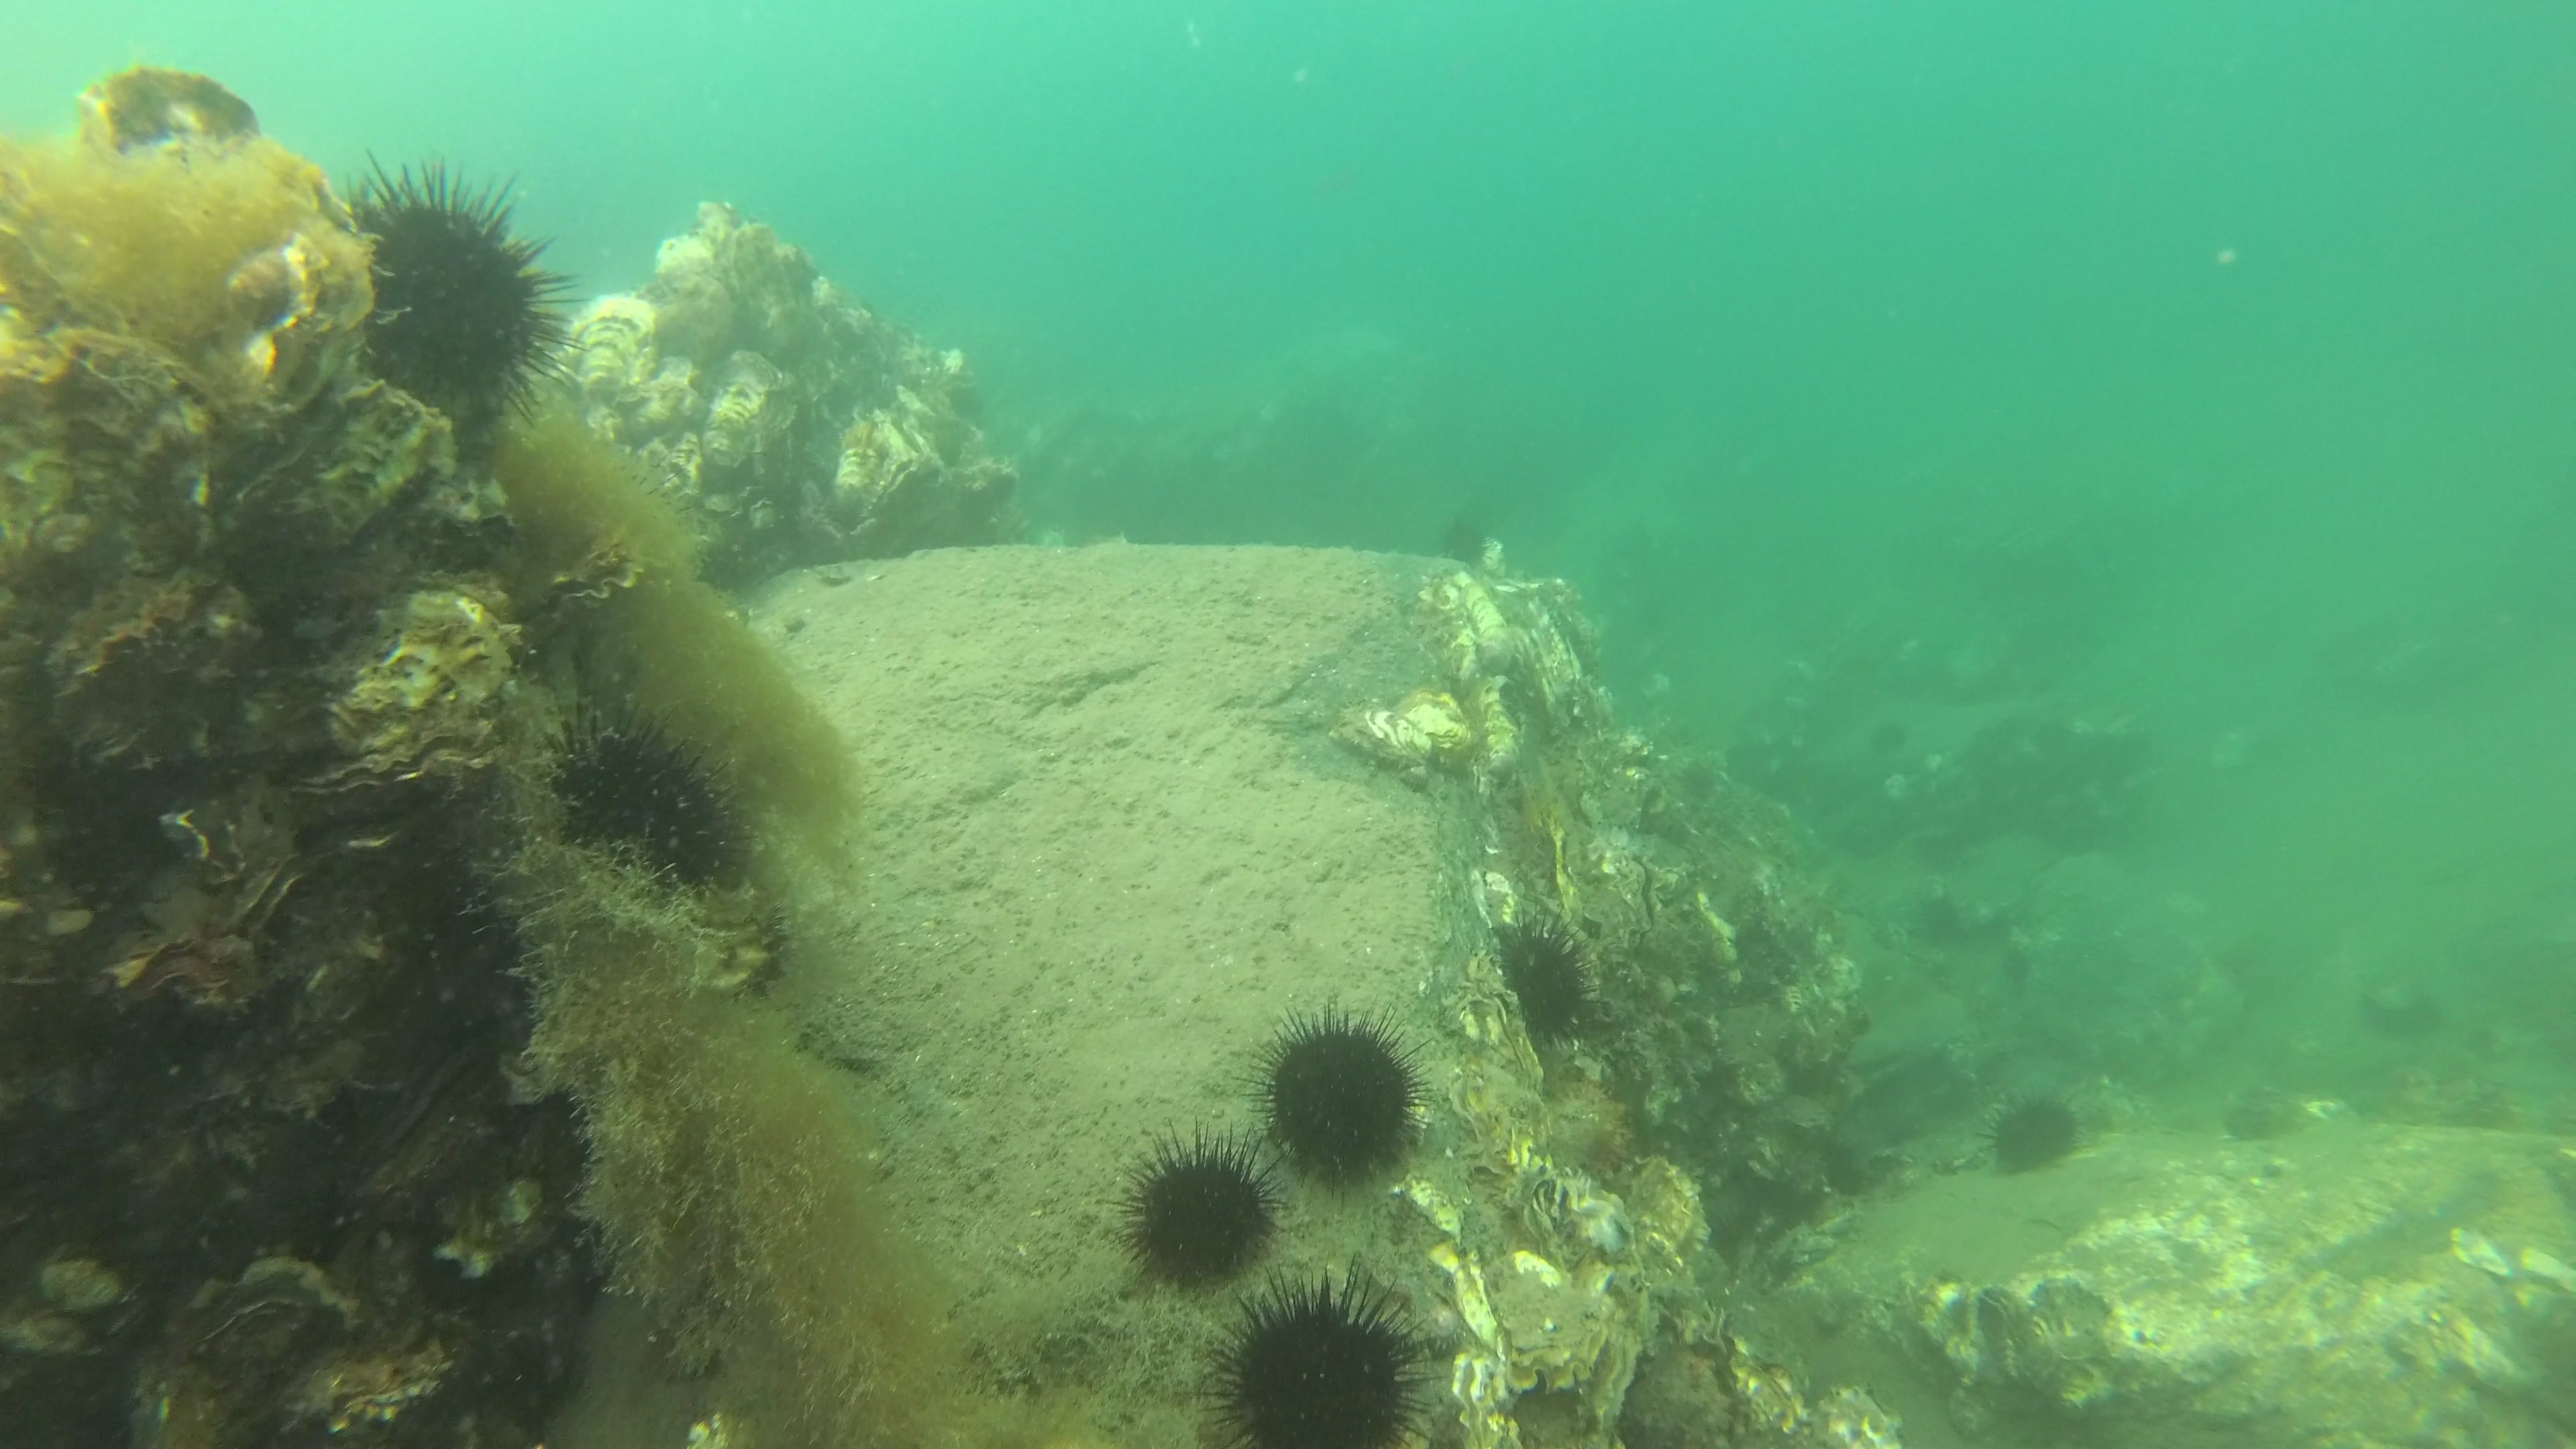echinus: (320, 145, 587, 453), (1191, 1261, 1447, 1449), (540, 706, 752, 913), (1235, 994, 1444, 1198), (1113, 1116, 1297, 1306), (1491, 909, 1598, 1054), (1978, 1090, 2095, 1180)
